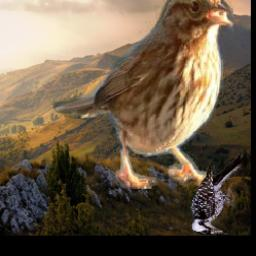Sparrow: (50, 0, 234, 189)
Woodpecker: (189, 153, 243, 235)
